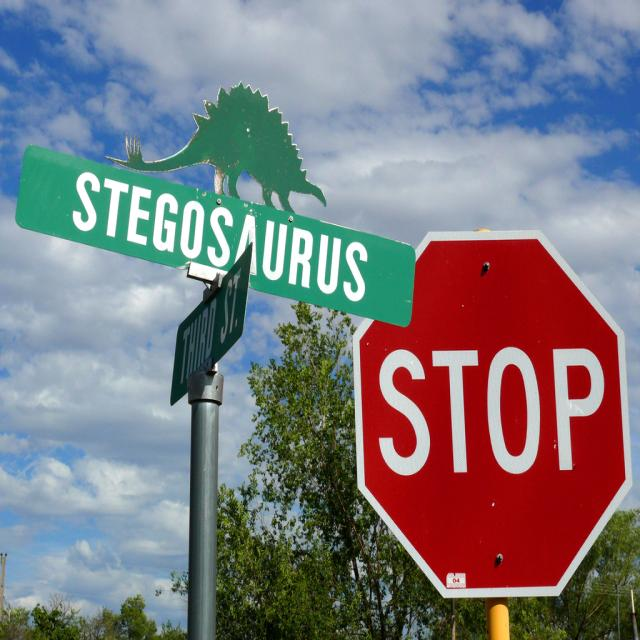Stop-sign: (357, 228, 626, 600)
